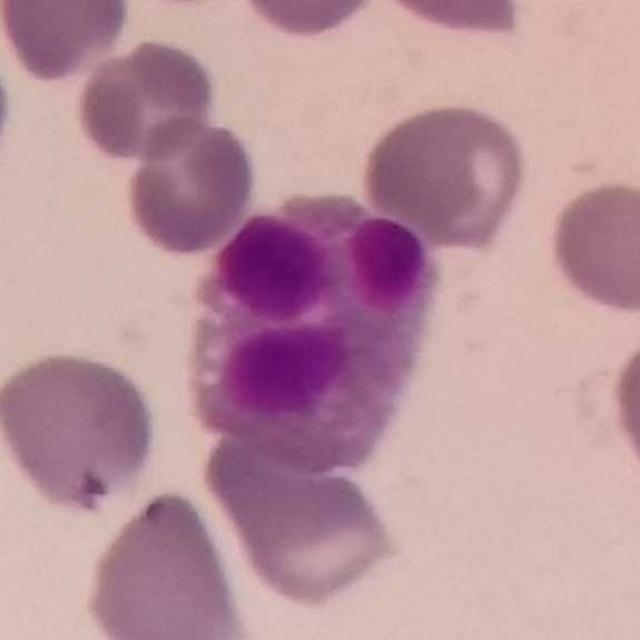Eosinophil: (188, 194, 449, 476)
RBC: (198, 414, 405, 610), (0, 345, 164, 520), (78, 485, 251, 640), (356, 97, 534, 247), (122, 114, 260, 258), (72, 36, 217, 166), (543, 176, 640, 317), (0, 0, 134, 85), (370, 0, 538, 39), (234, 0, 382, 42), (606, 320, 640, 500)
